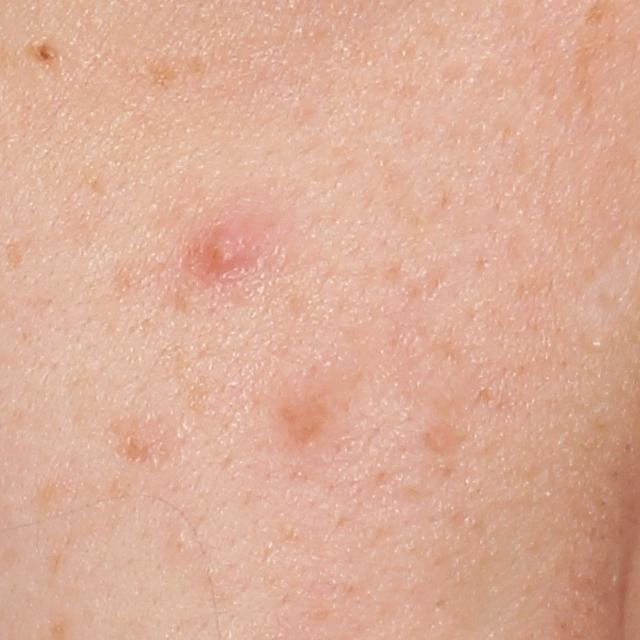comedo: (583, 333, 610, 353), (171, 530, 191, 549)
melasma: (135, 49, 209, 90)
papule: (188, 220, 254, 275)
